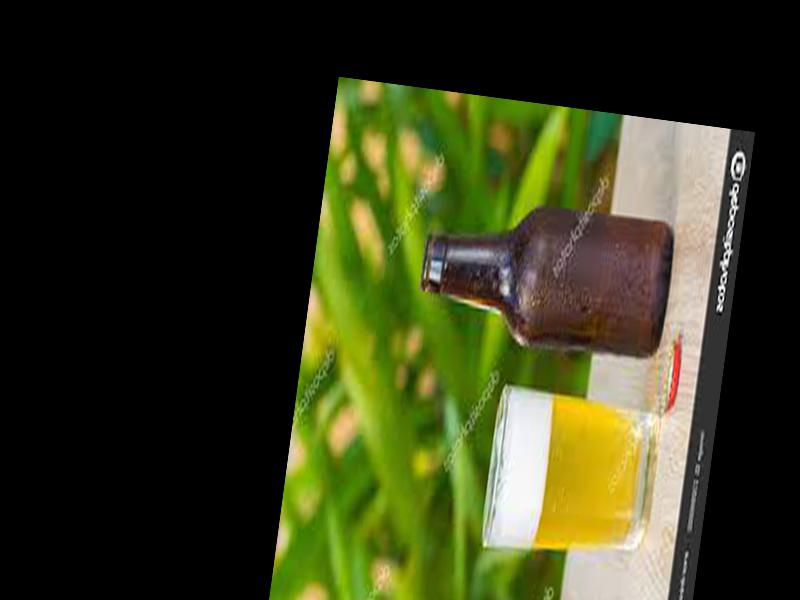Beer: (416, 197, 678, 361)
